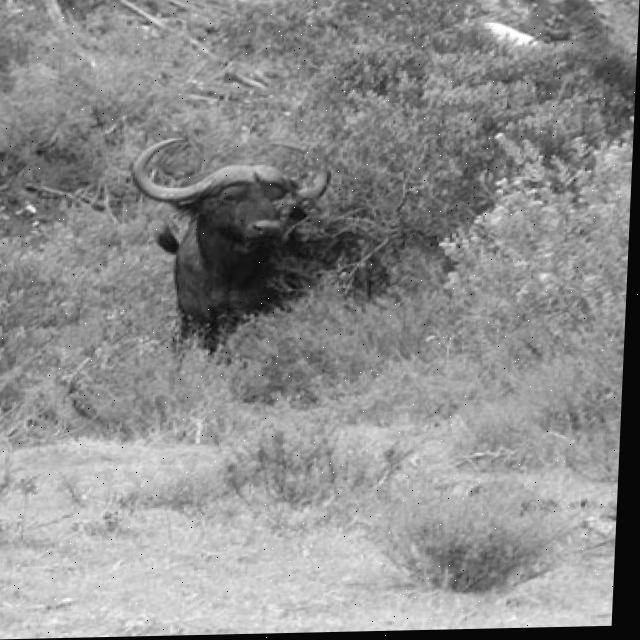Buffalo: (117, 130, 384, 381)
